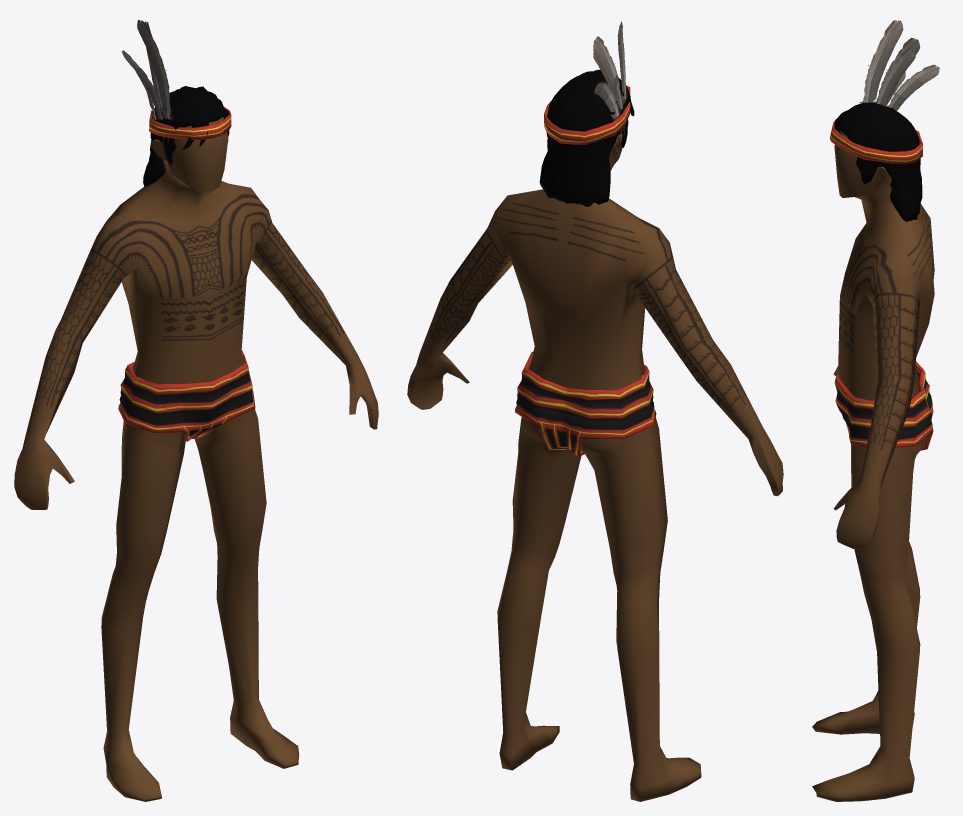
File: NPC MALE 1.fbx
The picture shows the model from 3 angles, left to right: view 1: azimuth 30°, elevation 25°; view 2: azimuth 150°, elevation 25°; view 3: azimuth 270°, elevation 25°; orthographic projection. The views are drawn at different scales.
Parts seen in each view (by area): view 1: Male NPC 1, Dumakulem Bahag.001, ManHairFBX.001, Plane.010, Object_2.009; view 2: Male NPC 1, Dumakulem Bahag.001, ManHairFBX.001, Plane.010, Object_2.008; view 3: Male NPC 1, ManHairFBX.001, Dumakulem Bahag.001, Plane.010, Object_2.009, Object_2.007, Object_2.006, Object_2.008.
Boxes of the visible parts, x1,y1,x2,y2 form: Male NPC 1: (14, 117, 378, 801); Dumakulem Bahag.001: (118, 350, 255, 441); ManHairFBX.001: (143, 86, 229, 186); Plane.010: (149, 107, 231, 139); Object_2.009: (137, 20, 175, 142); Male NPC 1: (407, 133, 783, 801); Dumakulem Bahag.001: (515, 351, 656, 456); ManHairFBX.001: (539, 69, 634, 206); Plane.010: (544, 85, 630, 144); Object_2.008: (593, 36, 626, 130); Male NPC 1: (812, 131, 934, 801); ManHairFBX.001: (834, 102, 922, 221); Dumakulem Bahag.001: (834, 361, 933, 450); Plane.010: (829, 119, 922, 163); Object_2.009: (859, 20, 903, 103); Object_2.007: (888, 64, 939, 110); Object_2.006: (873, 48, 915, 106); Object_2.008: (871, 38, 920, 107).
Bounding box in the file's own units: 188 × 376 × 64.16.
5 materials, 5 textured.
